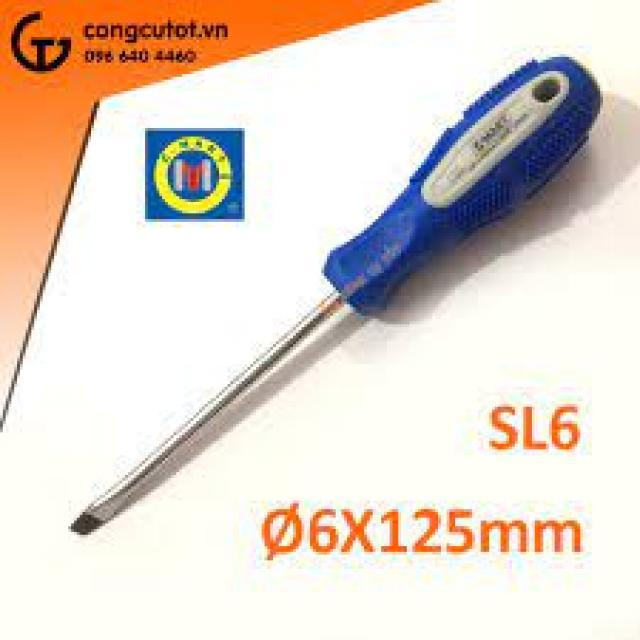screwdriver: (59, 52, 604, 542)
